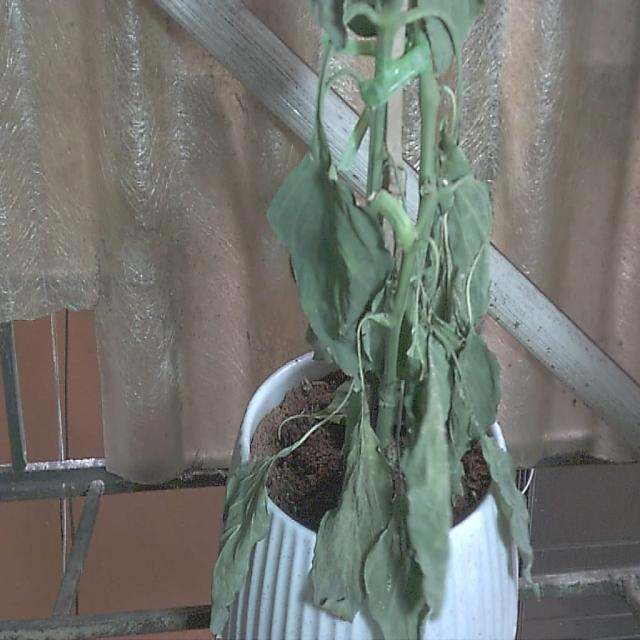Leaf: (307, 405, 394, 625), (206, 447, 278, 640)
